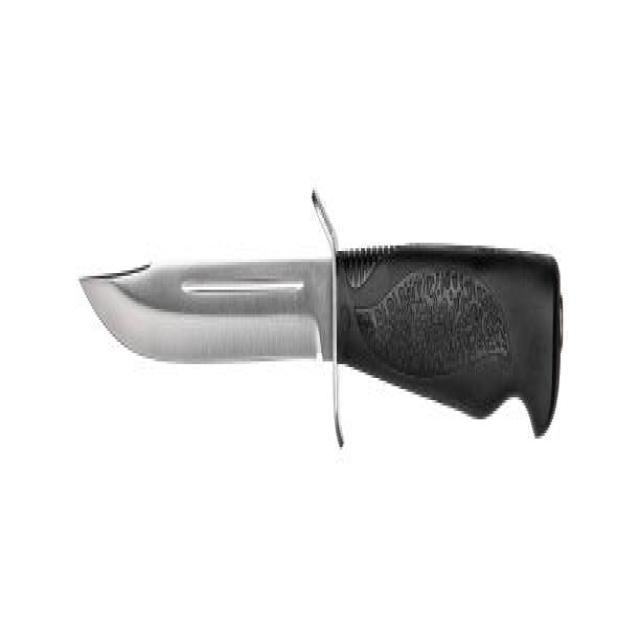knife: (79, 184, 569, 495)
